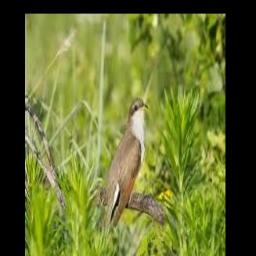Cuckoo: (103, 98, 149, 238)
